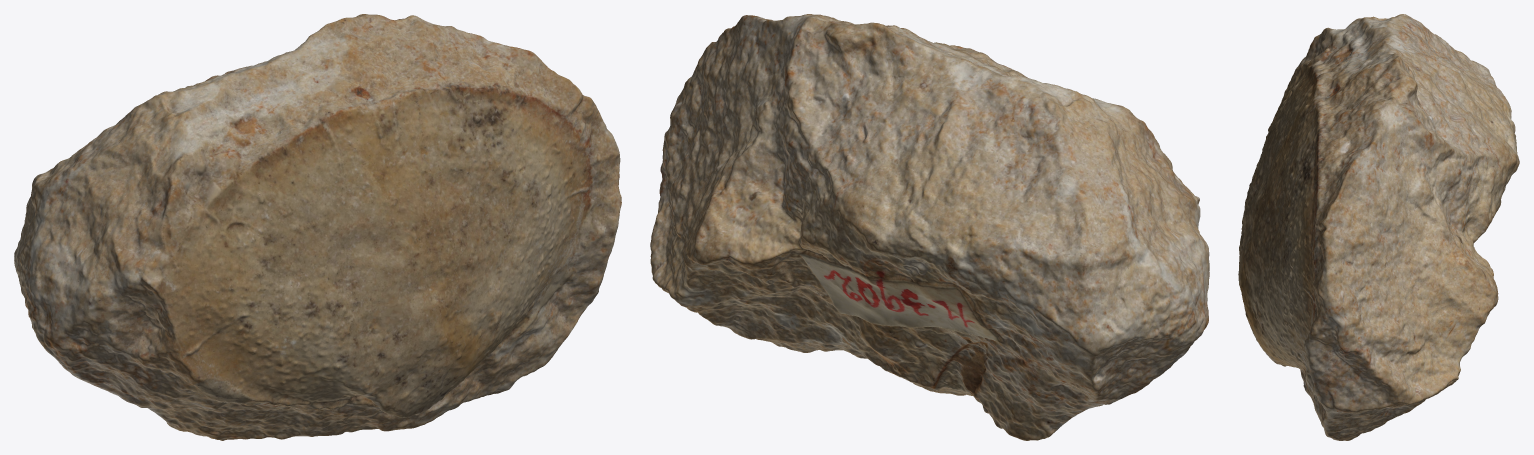
The model's file is EWS0014124.glb.
3 views of the same model, side by side, from view 1: azimuth 30°, elevation 25°; view 2: azimuth 150°, elevation 25°; view 3: azimuth 270°, elevation 25° (orthographic). The views are drawn at different scales.
Visible parts, largest first — view 1: input; view 2: input; view 3: input.
Boxes of the visible parts, left/top/right/bottom form: input: left=14, top=14, right=621, bottom=440; input: left=650, top=14, right=1209, bottom=440; input: left=1238, top=14, right=1519, bottom=440.
Size of the model in its own units: 0.0409 by 0.0269 by 0.0208.
1 material, 1 textured.
